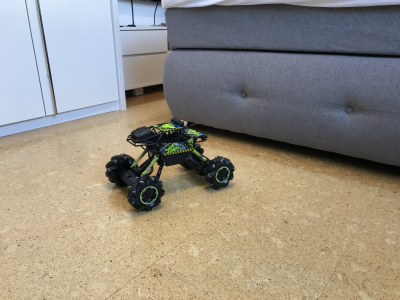remote control car: (103, 114, 236, 214)
